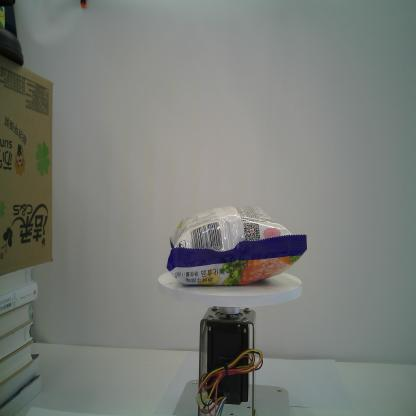Puffed Food: (165, 202, 309, 287)
